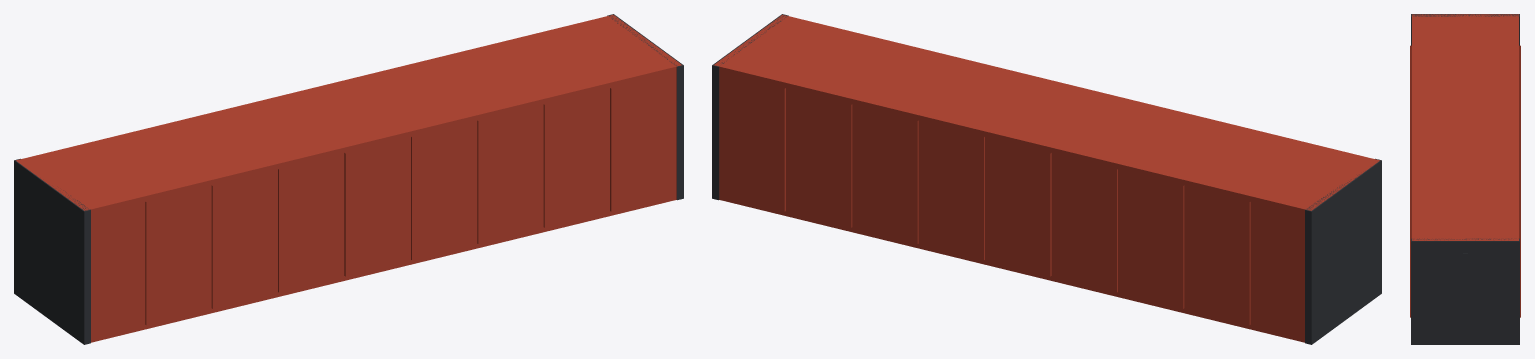
The model's file is prop_in_container_a.glb.
3 renders of one model, left to right at view 1: azimuth 30°, elevation 25°; view 2: azimuth 150°, elevation 25°; view 3: azimuth 270°, elevation 25°, orthographic. The views are drawn at different scales.
Visible parts, largest first — view 1: prop_in_container_a; view 2: prop_in_container_a; view 3: prop_in_container_a.
Boxes of the visible parts, x1=… form: prop_in_container_a: x1=14, y1=14, x2=683, y2=344; prop_in_container_a: x1=712, y1=14, x2=1381, y2=344; prop_in_container_a: x1=1410, y1=14, x2=1520, y2=344.
Size of what is drawn, in the model's own units: 12.25 by 2.6 by 2.52.
